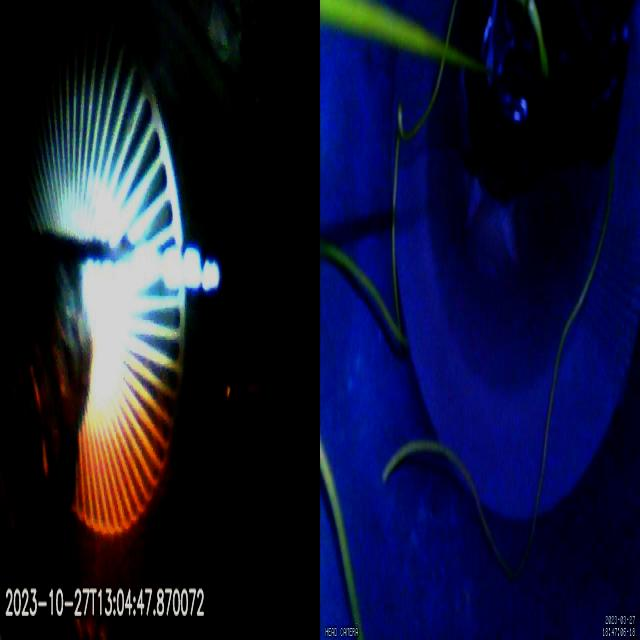white-dots: (162, 245, 220, 294)
